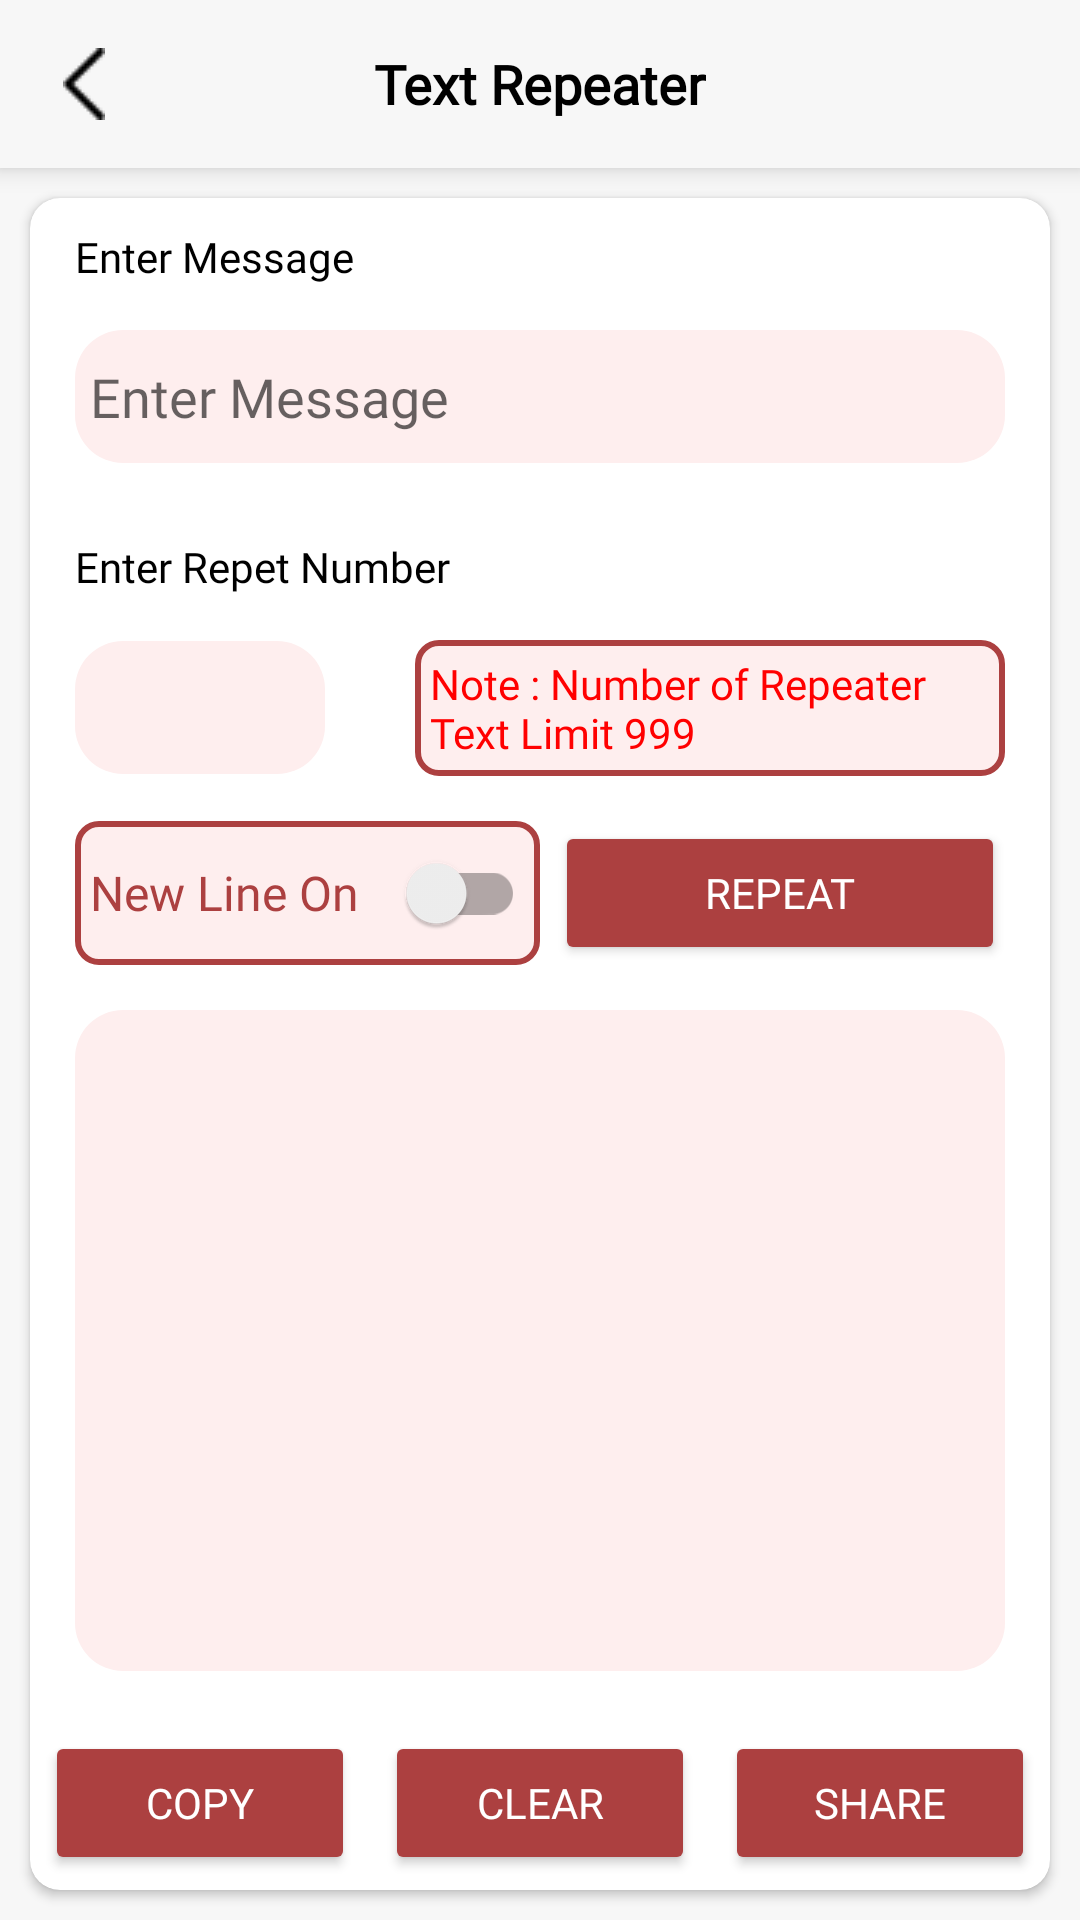

Icons on this 1080 x 1920 Android screen, each with the point to tap as [x,y]:
back: [84,84]
